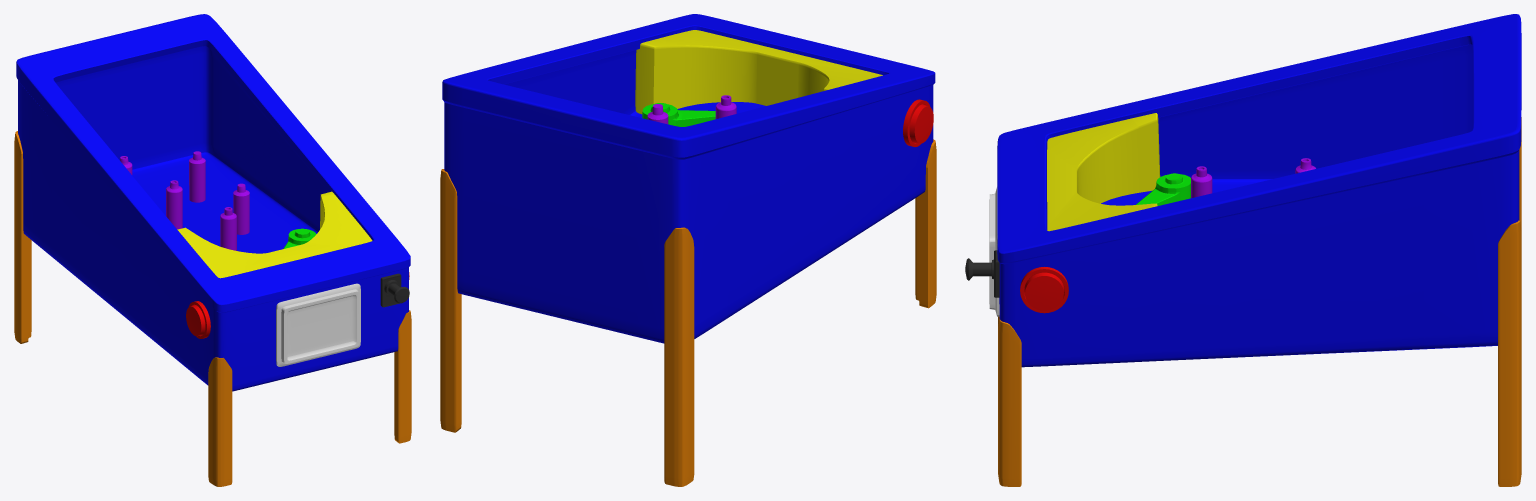
Rendered from pinball_machine.fbx.
3 views of the same model, side by side, from view 1: azimuth 30°, elevation 25°; view 2: azimuth 150°, elevation 25°; view 3: azimuth 270°, elevation 25° (orthographic). The views are drawn at different scales.
Parts seen in each view (by area): view 1: polySurface389, polySurface390, polySurface394, polySurface403, polySurface405, polySurface400, polySurface406, polySurface391, polySurface393, polySurface398, polySurface397, polySurface399; view 2: polySurface389, polySurface394, polySurface405, polySurface402, polySurface403, polySurface393, polySurface404; view 3: polySurface389, polySurface394, polySurface402, polySurface400, polySurface392, polySurface401, polySurface390, polySurface391.
Boxes of the visible parts, x1=… form: polySurface389: x1=16, y1=14, x2=410, y2=391; polySurface390: x1=276, y1=283, x2=360, y2=366; polySurface394: x1=177, y1=191, x2=372, y2=278; polySurface403: x1=208, y1=357, x2=232, y2=486; polySurface405: x1=14, y1=131, x2=31, y2=343; polySurface400: x1=394, y1=310, x2=411, y2=443; polySurface406: x1=189, y1=151, x2=205, y2=202; polySurface391: x1=380, y1=273, x2=409, y2=307; polySurface393: x1=186, y1=301, x2=210, y2=338; polySurface398: x1=233, y1=183, x2=249, y2=234; polySurface397: x1=166, y1=180, x2=182, y2=229; polySurface399: x1=220, y1=207, x2=236, y2=250; polySurface389: x1=442, y1=14, x2=935, y2=343; polySurface394: x1=635, y1=30, x2=882, y2=114; polySurface405: x1=664, y1=227, x2=694, y2=486; polySurface402: x1=440, y1=169, x2=461, y2=432; polySurface403: x1=915, y1=139, x2=936, y2=308; polySurface393: x1=903, y1=99, x2=933, y2=146; polySurface404: x1=642, y1=103, x2=715, y2=126; polySurface389: x1=997, y1=14, x2=1521, y2=367; polySurface394: x1=1047, y1=113, x2=1160, y2=231; polySurface402: x1=1498, y1=220, x2=1521, y2=486; polySurface400: x1=998, y1=319, x2=1021, y2=486; polySurface392: x1=1020, y1=267, x2=1068, y2=313; polySurface401: x1=1136, y1=173, x2=1190, y2=205; polySurface390: x1=989, y1=187, x2=999, y2=316; polySurface391: x1=965, y1=250, x2=999, y2=297.
Size of the model in its own units: 5.6 by 7.02 by 9.99.
